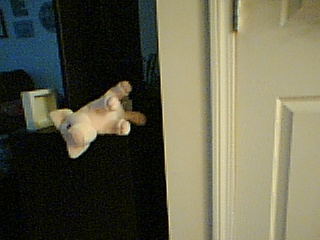piggy: (49, 79, 147, 161)
